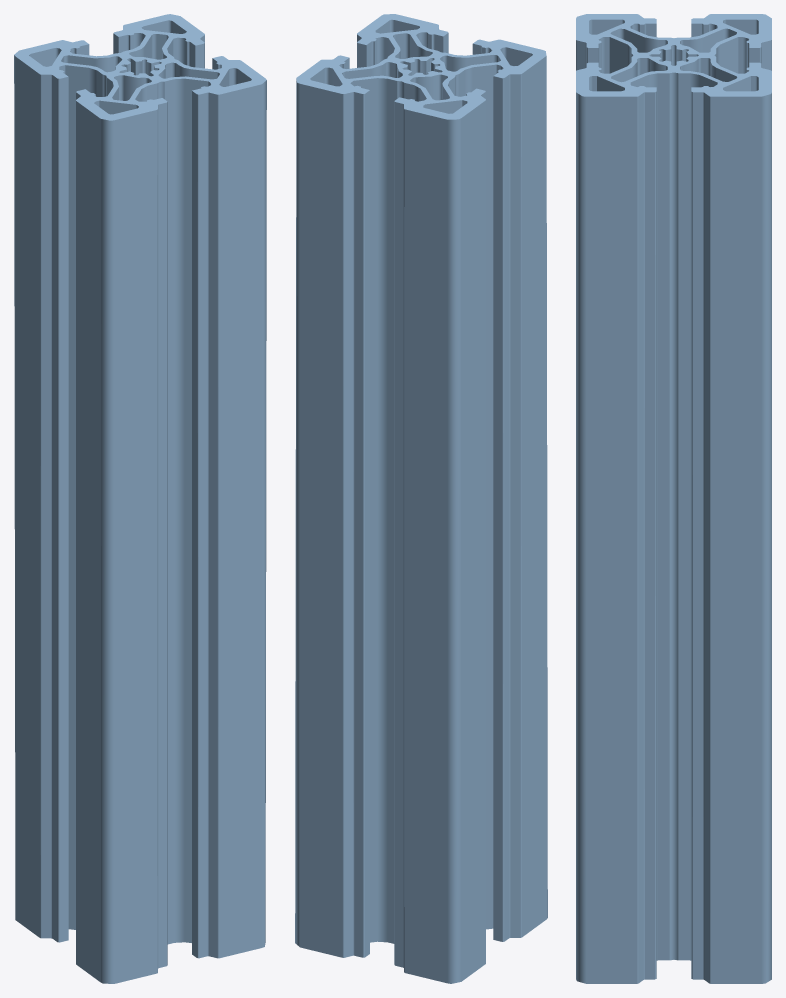
File: ST_EXT_001_0225.gltf
3 views of the same model, side by side, from view 1: azimuth 30°, elevation 25°; view 2: azimuth 150°, elevation 25°; view 3: azimuth 270°, elevation 25° (orthographic). The views are drawn at different scales.
Bounding box in the file's own units: 0.045 × 0.225 × 0.045.
